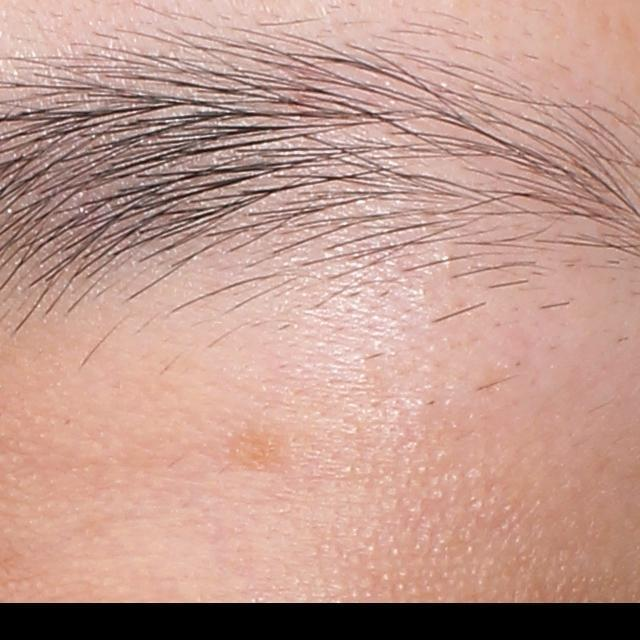melasma: (227, 429, 293, 471)
